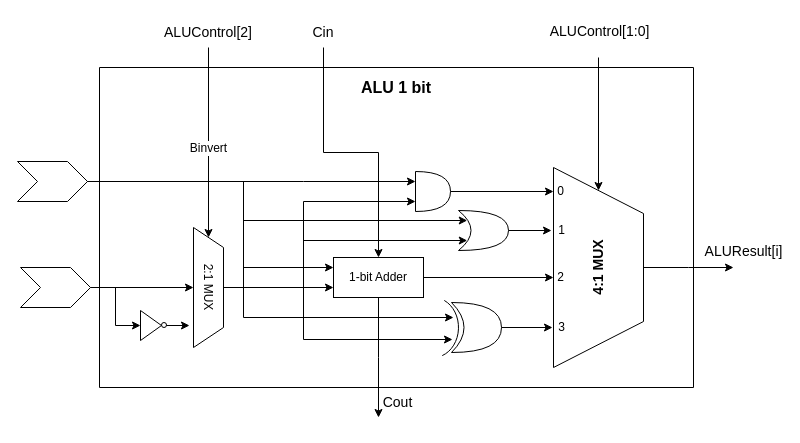
Some shapes in this 800 by 443 pixel diagram are drawn without their labels. Each missing label, with the centre of its shape:
A[i]: [52,181]
B[i]: [55,287]
